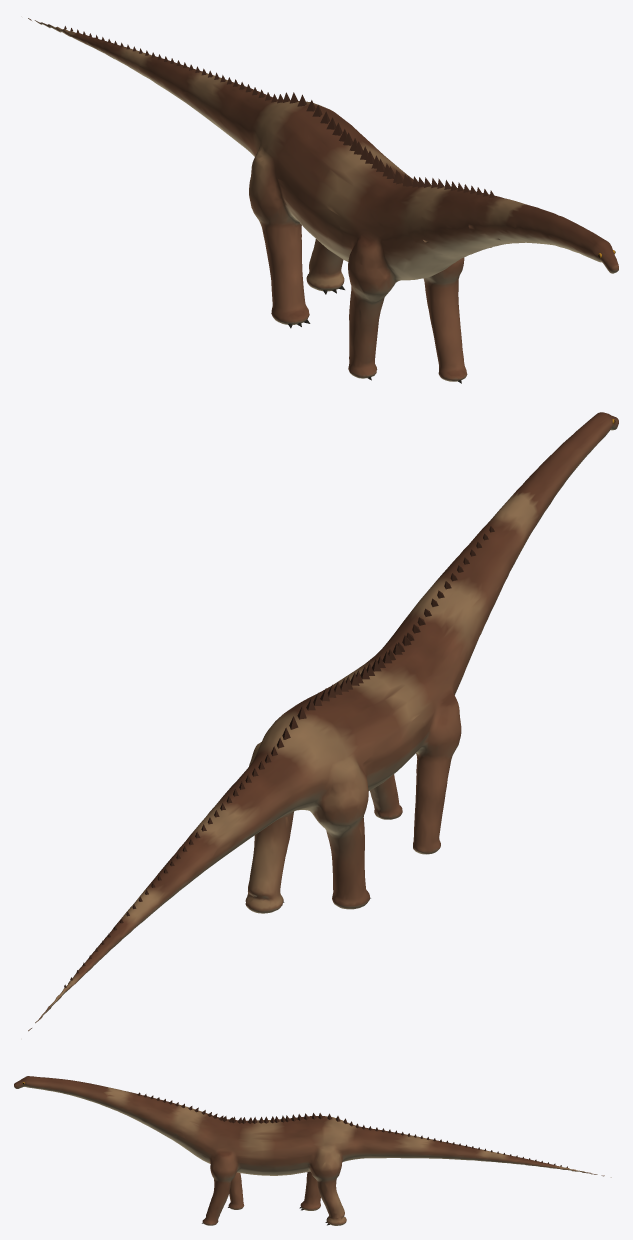
Rendered from Supersaurus.fbx.
3 renders of one model, top to bottom at view 1: azimuth 30°, elevation 25°; view 2: azimuth 150°, elevation 25°; view 3: azimuth 270°, elevation 25°, orthographic. The views are drawn at different scales.
Parts seen in each view (by area): view 1: Supersaurus; view 2: Supersaurus; view 3: Supersaurus.
Part boxes in pixels (box(x1,y1,x2,y2)): Supersaurus: box(28, 18, 618, 383); Supersaurus: box(28, 412, 618, 1031); Supersaurus: box(14, 1076, 611, 1225).
Bounding box in the file's own units: 0.8879 × 2.15 × 8.41.
